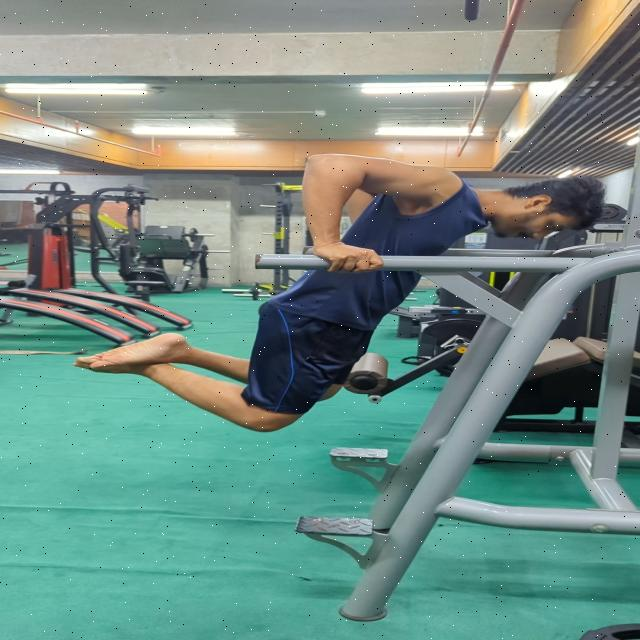Normal_Dips: (65, 147, 610, 440)
